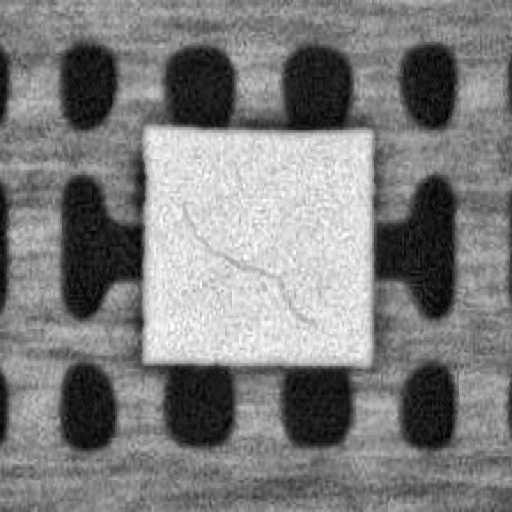DIE_CRACK: (181, 207, 317, 321)
